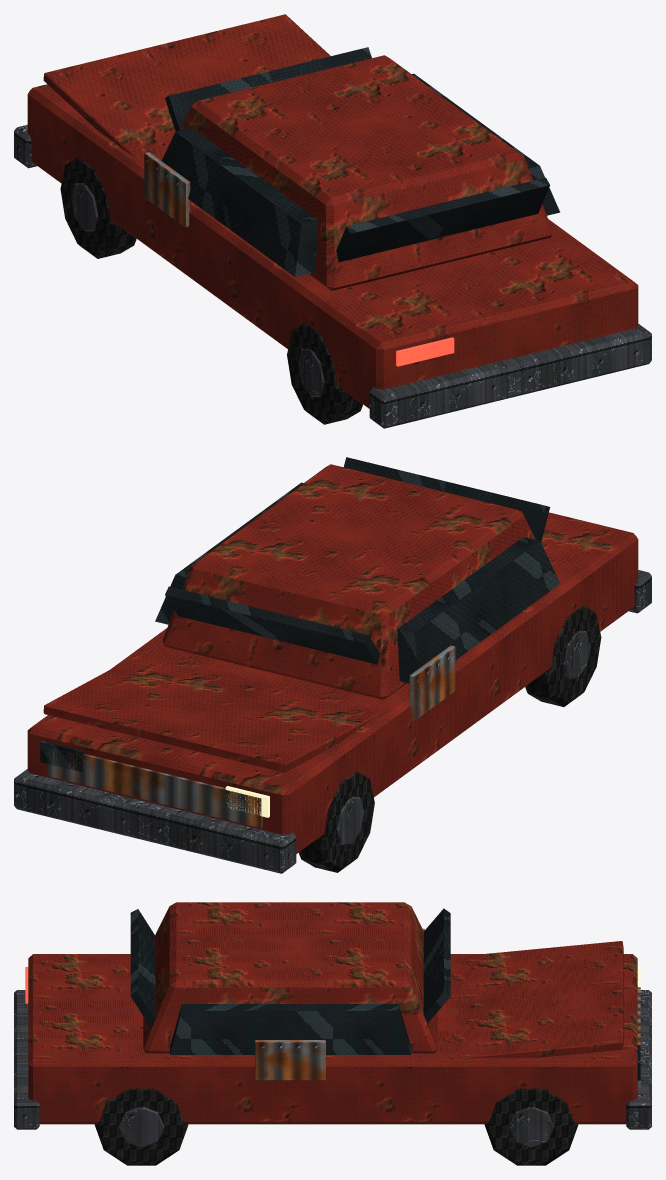
File: prop_car_wreck.glb
The picture shows the model from 3 angles, top to bottom: view 1: azimuth 30°, elevation 25°; view 2: azimuth 150°, elevation 25°; view 3: azimuth 270°, elevation 25°; orthographic projection. The views are drawn at different scales.
Visible parts, largest first — view 1: prop_car_wreck_mesh; view 2: prop_car_wreck_mesh; view 3: prop_car_wreck_mesh.
Part boxes in pixels (x1,y1,x2,y2): prop_car_wreck_mesh: [14, 14, 651, 428]; prop_car_wreck_mesh: [14, 457, 651, 873]; prop_car_wreck_mesh: [14, 902, 651, 1165].
Size of the model in its own units: 1.9 by 1.32 by 4.5.
Materials: 7 (7 with a texture image).
